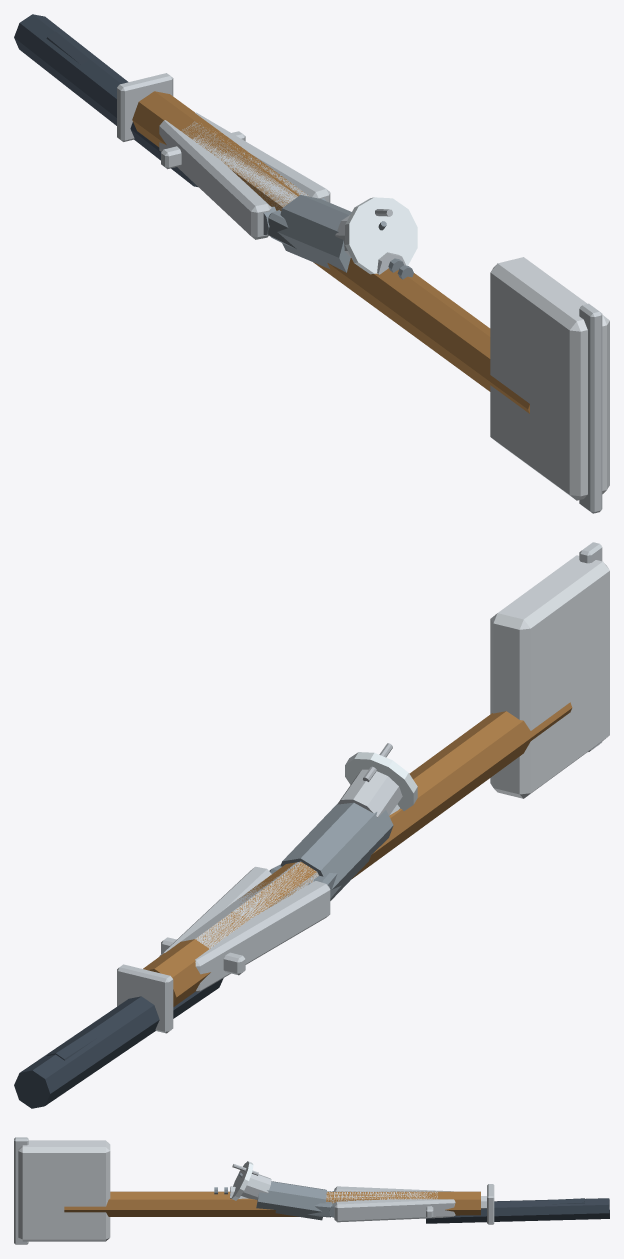
Rendered from instruments.glb.
3 renders of one model, top to bottom at view 1: azimuth 30°, elevation 25°; view 2: azimuth 150°, elevation 25°; view 3: azimuth 270°, elevation 25°, orthographic. The views are drawn at different scales.
Parts seen in each view (by area): view 1: AxeHead, AxeHandle, SuctionHose, ForcepsArmL, MirrorHead, HandpieceBody, AxeEdge, SyringeThumb, ForcepsArmR, SyringeBarrel, HandpieceGrip, HandpieceHose; view 2: AxeHead, AxeHandle, SuctionHose, HandpieceBody, ForcepsArmL, HandpieceGrip, SyringeThumb, HandpieceHead, MirrorHead, ForcepsArmR; view 3: AxeHead, AxeHandle, SuctionHose, ForcepsArmR, HandpieceBody, AxeEdge, HandpieceGrip, HandpieceHead, MirrorHead, ForcepsArmL, SyringeThumb, ForcepsBeakR (+2 smaller).
Part boxes in pixels (<box>): AxeHead: <box>490,257,609,500</box>; AxeHandle: <box>132,91,529,413</box>; SuctionHose: <box>14,14,198,187</box>; ForcepsArmL: <box>159,120,271,239</box>; MirrorHead: <box>345,197,417,274</box>; HandpieceBody: <box>277,195,351,272</box>; AxeEdge: <box>579,303,602,513</box>; SyringeThumb: <box>117,73,173,141</box>; ForcepsArmR: <box>195,112,330,202</box>; SyringeBarrel: <box>193,130,297,202</box>; HandpieceGrip: <box>181,121,309,210</box>; HandpieceHose: <box>46,31,97,64</box>; AxeHead: <box>490,555,609,798</box>; AxeHandle: <box>143,702,572,1006</box>; SuctionHose: <box>14,978,223,1108</box>; HandpieceBody: <box>280,802,393,900</box>; ForcepsArmL: <box>195,881,330,992</box>; HandpieceGrip: <box>181,863,318,948</box>; SyringeThumb: <box>117,964,173,1033</box>; HandpieceHead: <box>337,769,402,817</box>; MirrorHead: <box>345,752,417,810</box>; ForcepsArmR: <box>159,866,271,956</box>; AxeHead: <box>18,1140,110,1241</box>; AxeHandle: <box>64,1191,480,1216</box>; SuctionHose: <box>426,1198,609,1223</box>; ForcepsArmR: <box>334,1199,455,1222</box>; HandpieceBody: <box>256,1181,326,1220</box>; AxeEdge: <box>14,1137,28,1244</box>; HandpieceGrip: <box>326,1191,437,1203</box>; HandpieceHead: <box>241,1174,271,1199</box>; MirrorHead: <box>231,1161,253,1200</box>; ForcepsArmL: <box>334,1186,453,1191</box>; SyringeThumb: <box>487,1184,494,1224</box>; ForcepsBeakR: <box>308,1202,332,1217</box>.
Size of the model in its own units: 0.04 by 0.095 by 0.4862.
